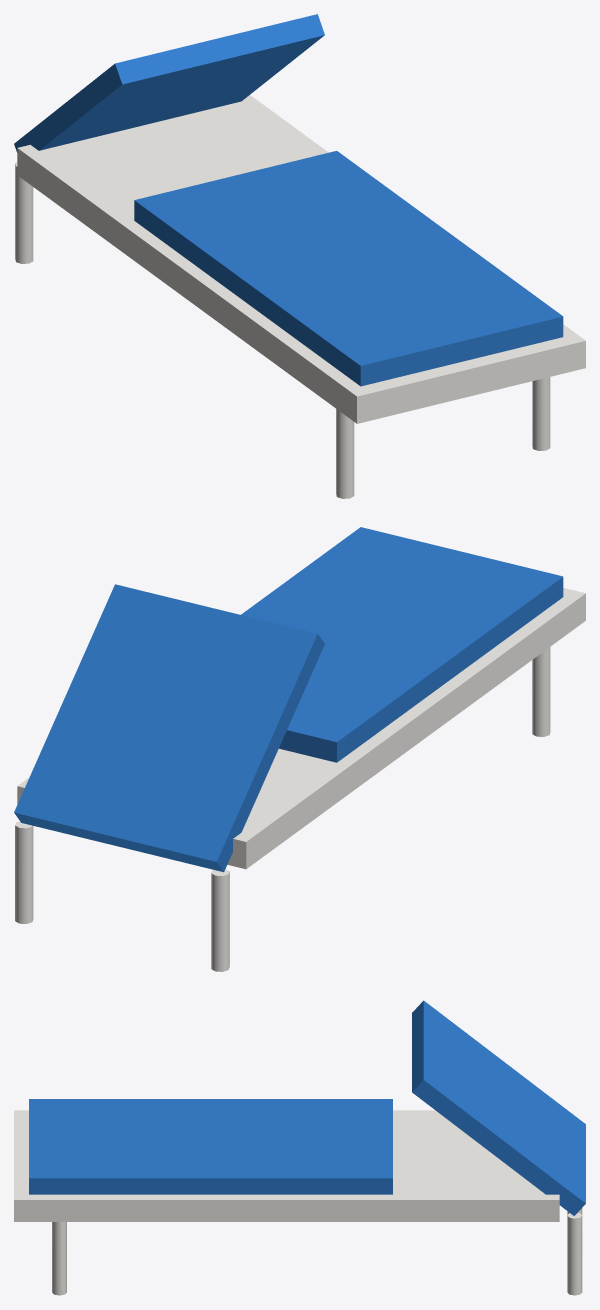
The model's file is lounger.glb.
3 renders of one model, top to bottom at view 1: azimuth 30°, elevation 25°; view 2: azimuth 150°, elevation 25°; view 3: azimuth 270°, elevation 25°, orthographic. The views are drawn at different scales.
Parts seen in each view (by area): view 1: lounger; view 2: lounger; view 3: lounger.
Part boxes in pixels (x1=…): lounger: x1=14, y1=14, x2=585, y2=498; lounger: x1=14, y1=527, x2=585, y2=971; lounger: x1=14, y1=1000, x2=585, y2=1295.
Size of the model in its own units: 0.7 by 0.7784 by 1.89.
